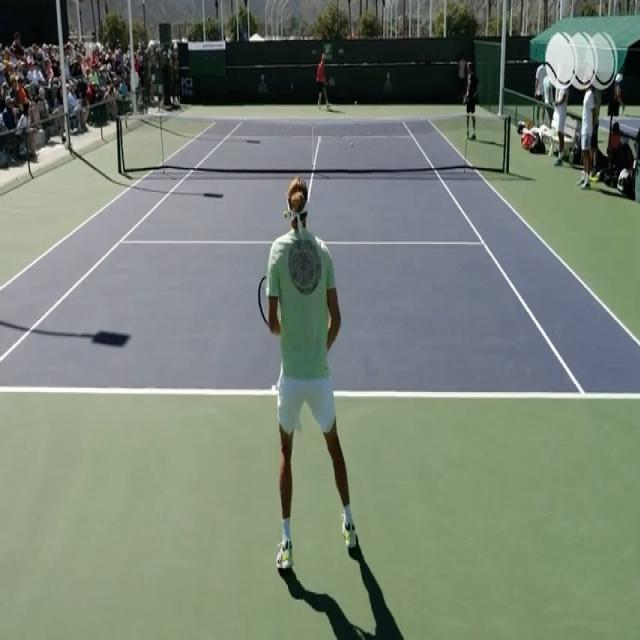ready-position: (255, 176, 369, 577)
